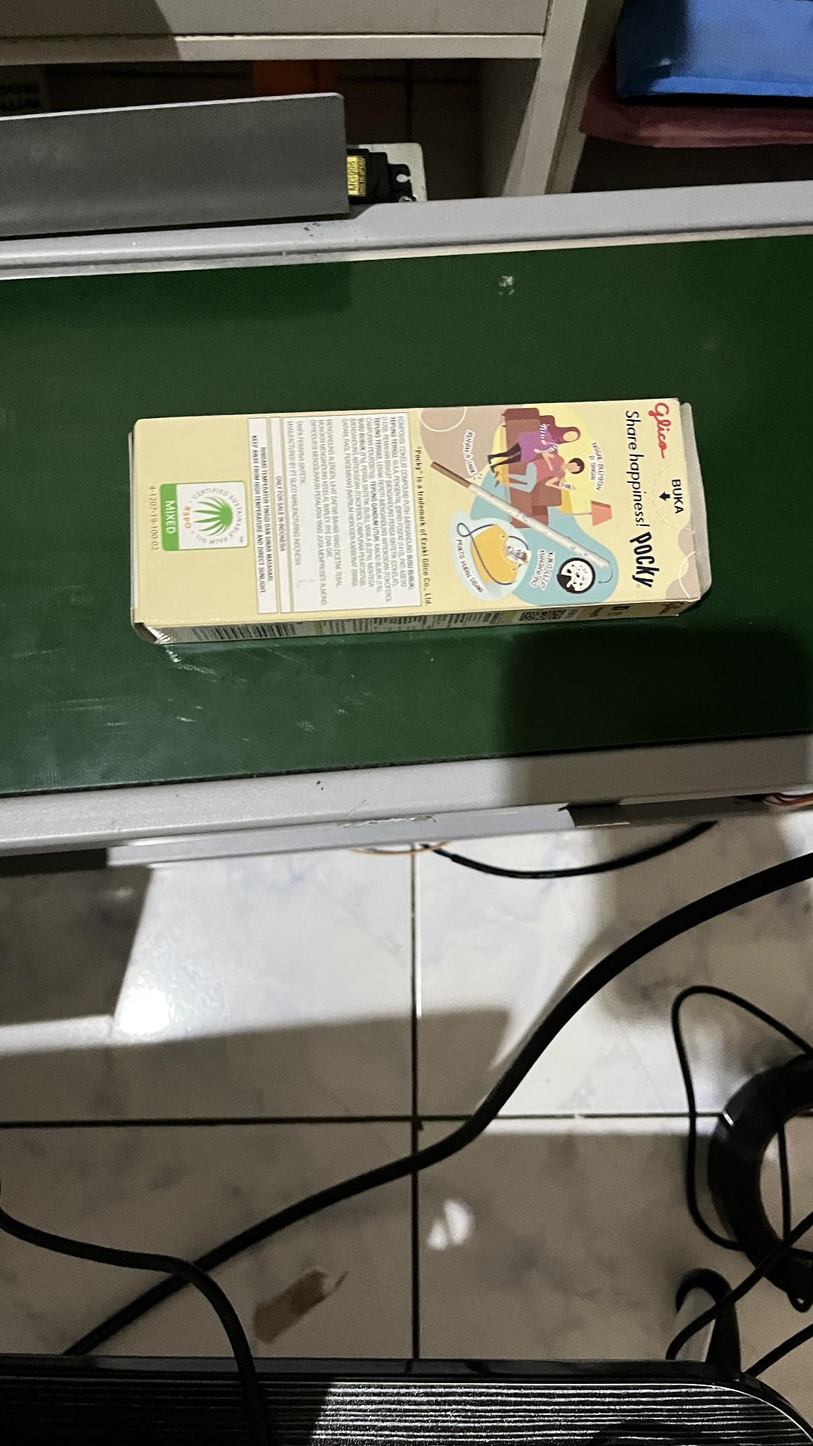Kertas: (133, 405, 710, 613)
